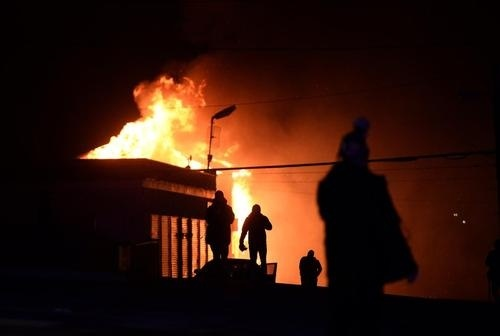fire: (82, 74, 235, 173), (227, 157, 257, 264)
